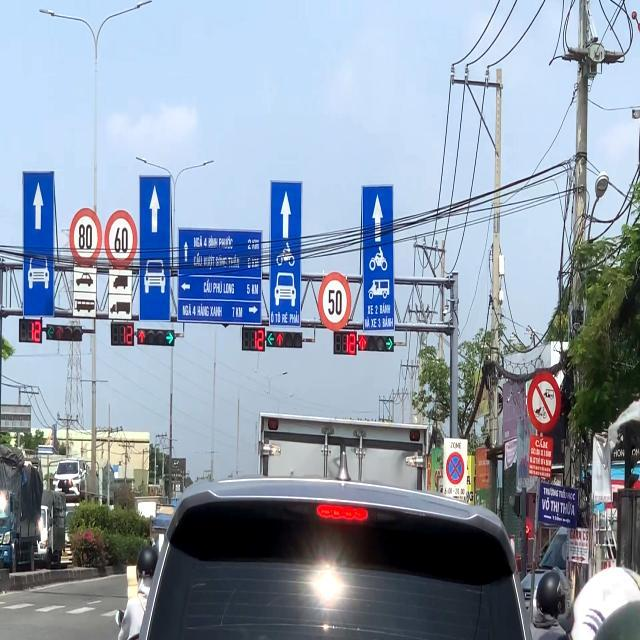Cam dung xe va do xe: (446, 449, 466, 486)
Toc do toi da cho phep: (318, 268, 350, 334), (104, 208, 137, 269), (68, 208, 102, 266)
